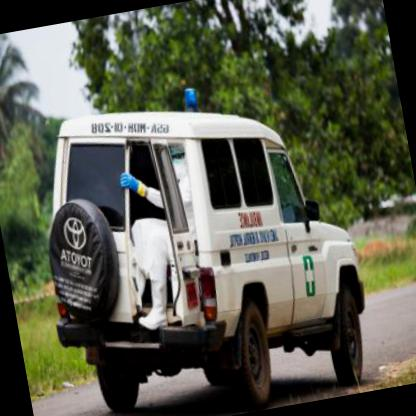truck: (17, 60, 383, 415)
